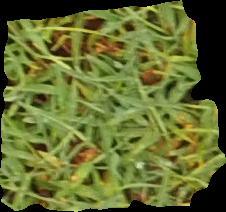grass: (1, 1, 225, 210)
